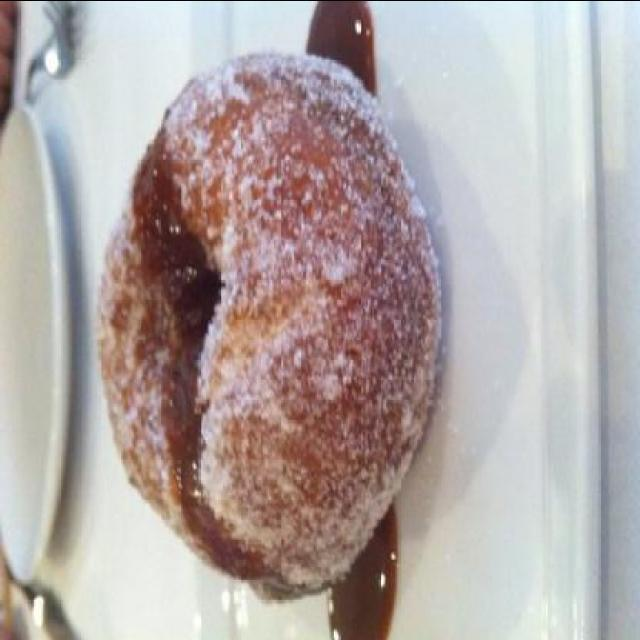Donuts: (81, 2, 494, 606)
